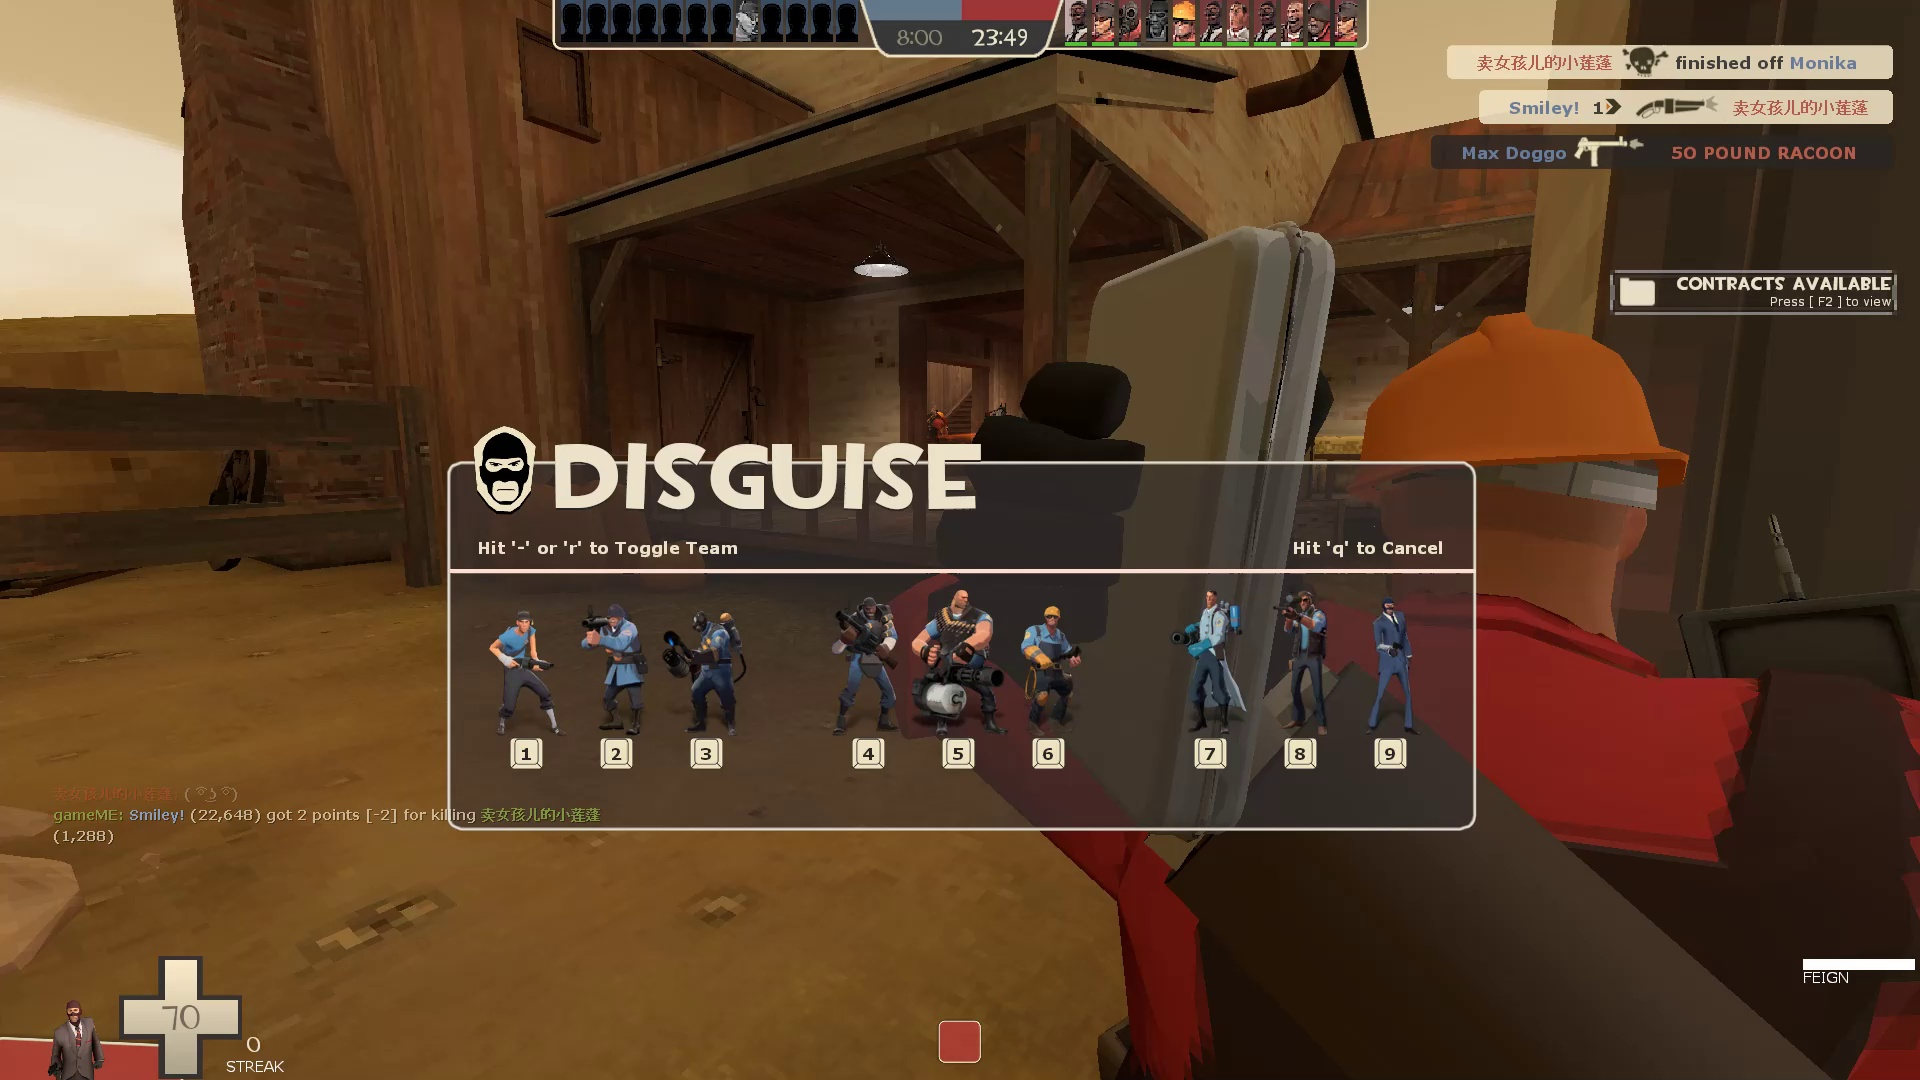red_engineer: (858, 315, 1920, 1077)
